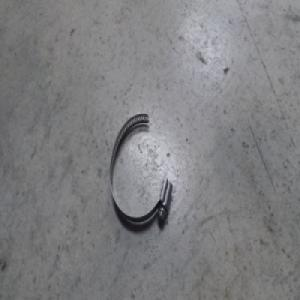AdjustableClamp: (108, 111, 173, 228)
